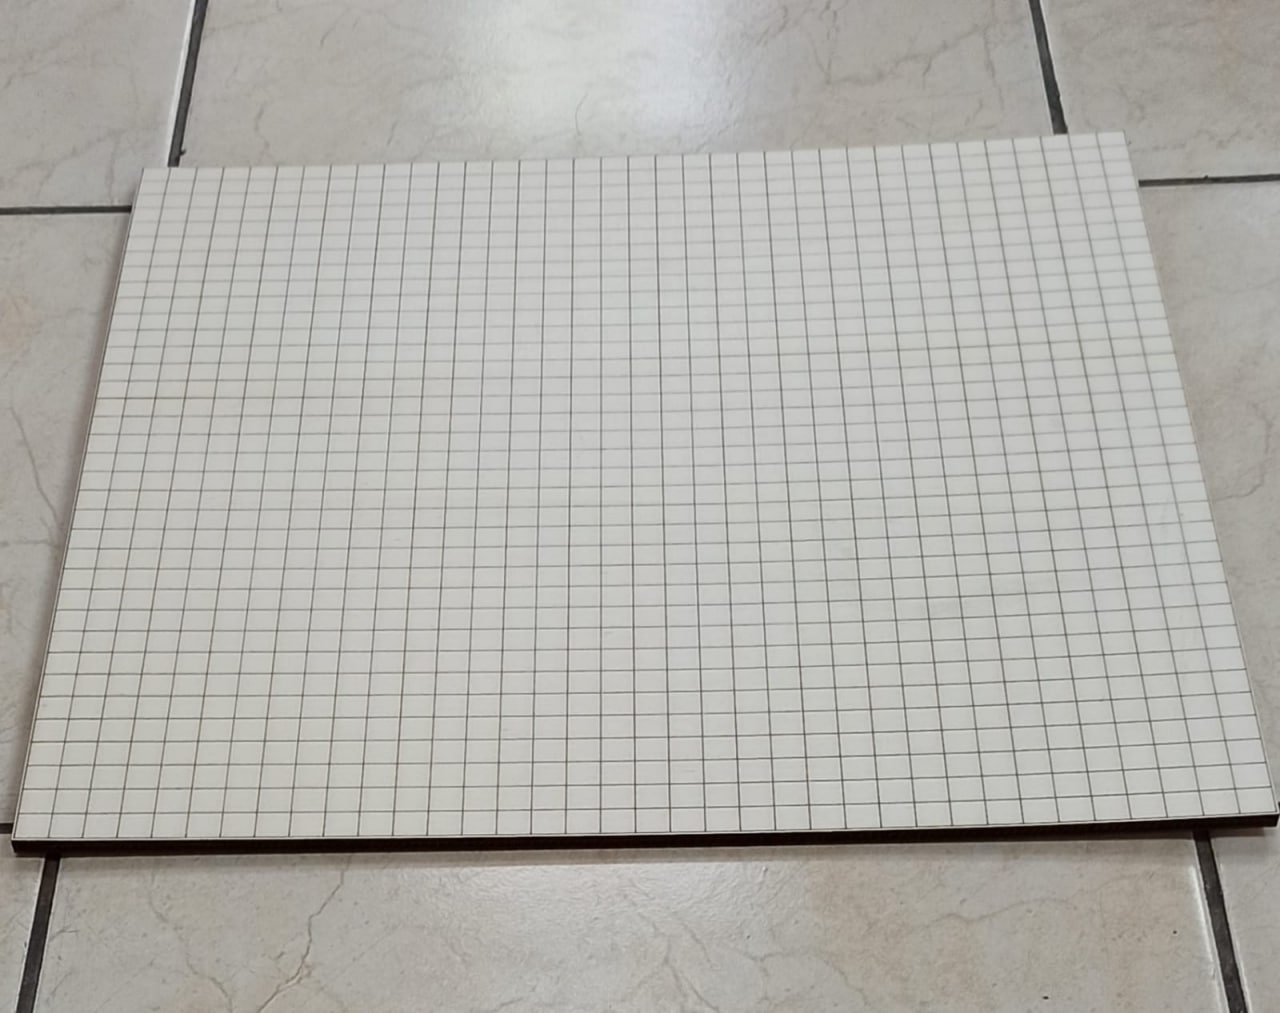grid: (14, 128, 1280, 868)
